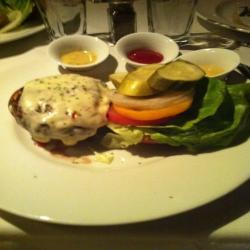burger: (9, 74, 119, 158)
ketchup: (118, 30, 175, 76)
salad: (185, 81, 250, 148)
